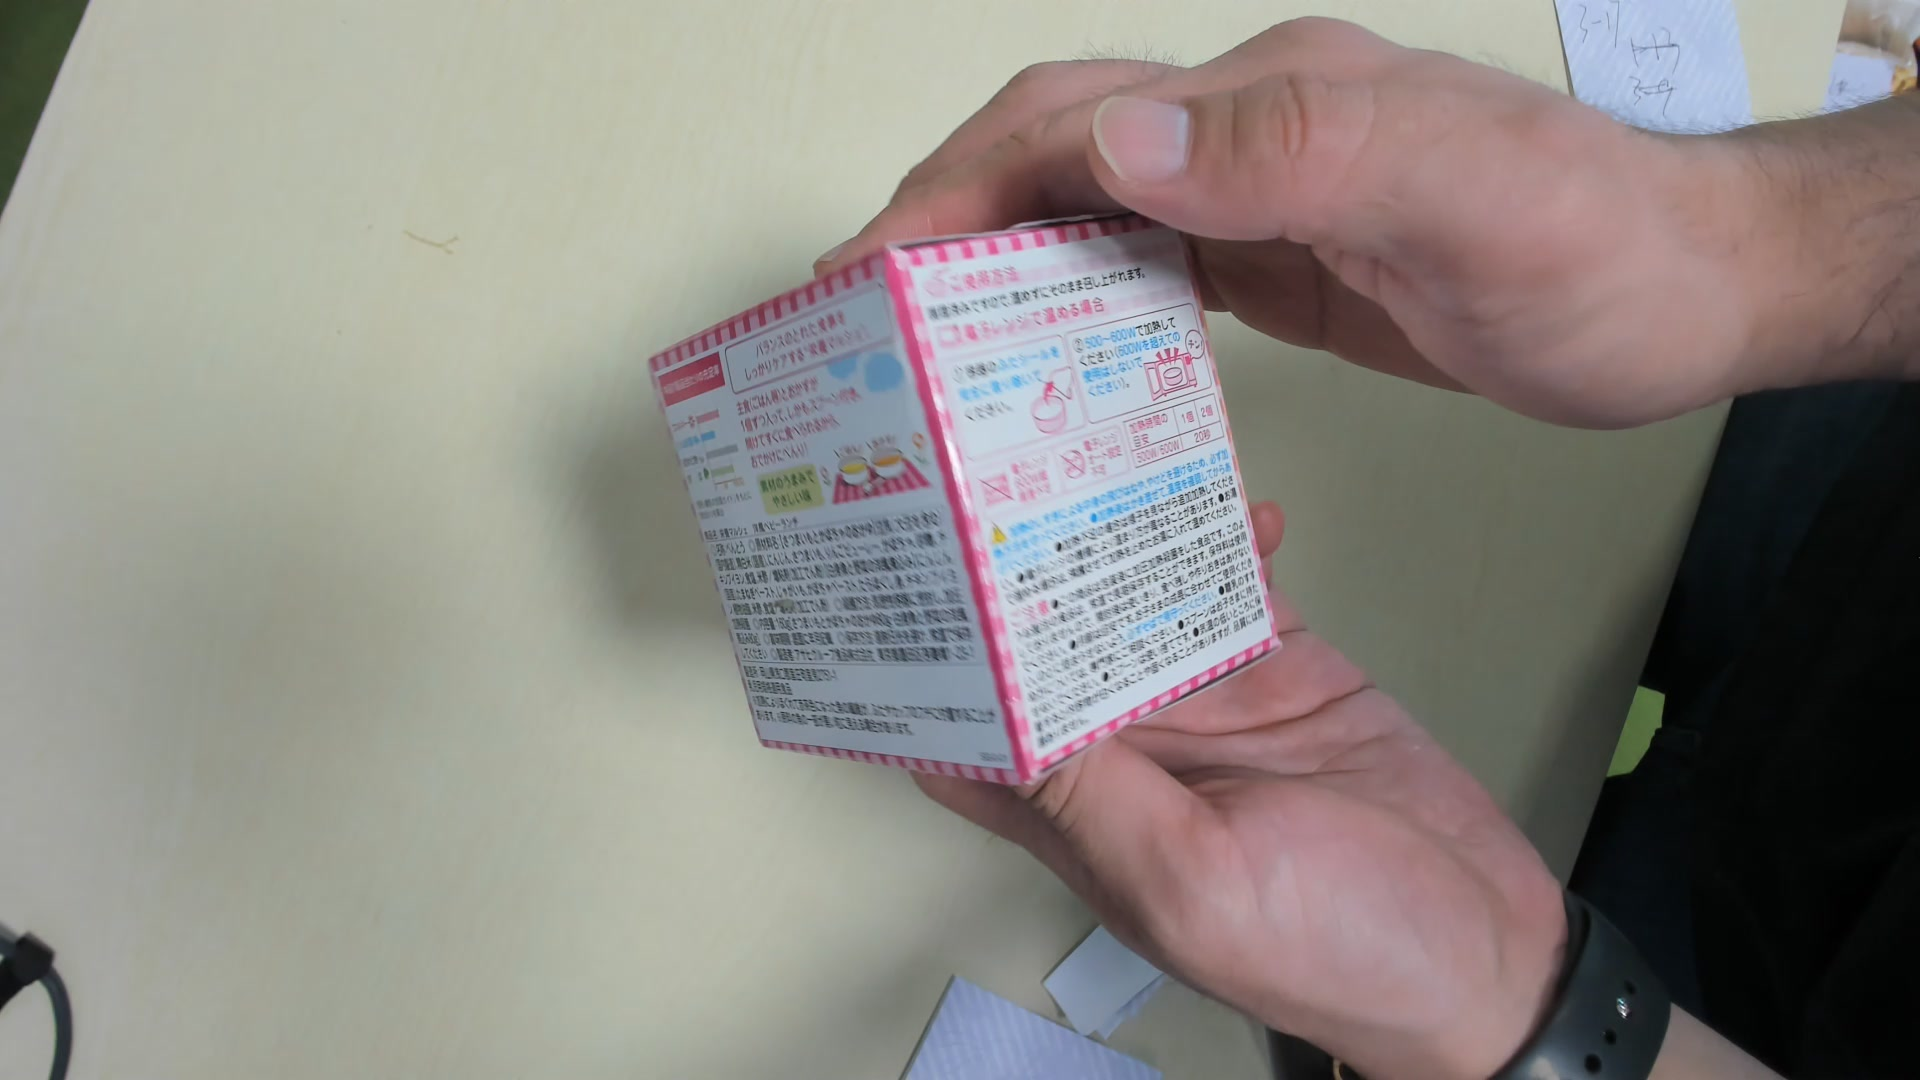InstantMeals_0-99g_NonHalal_NonHealthy: (644, 206, 1274, 799)
